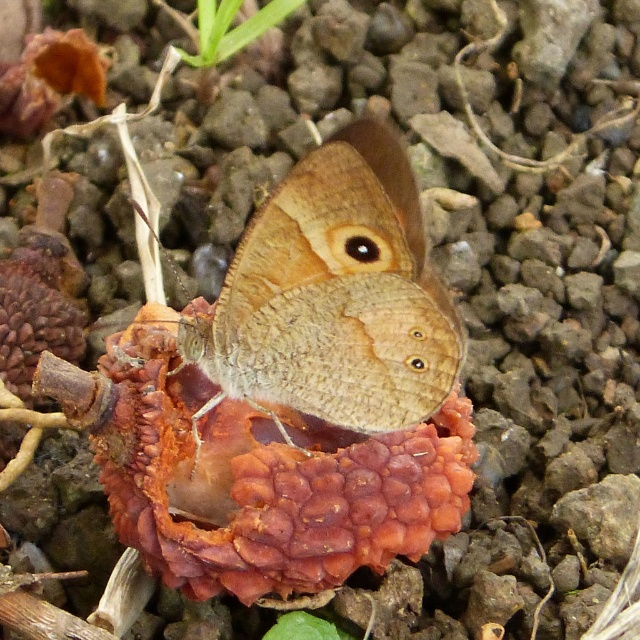Butterfly: (83, 141, 484, 451)
